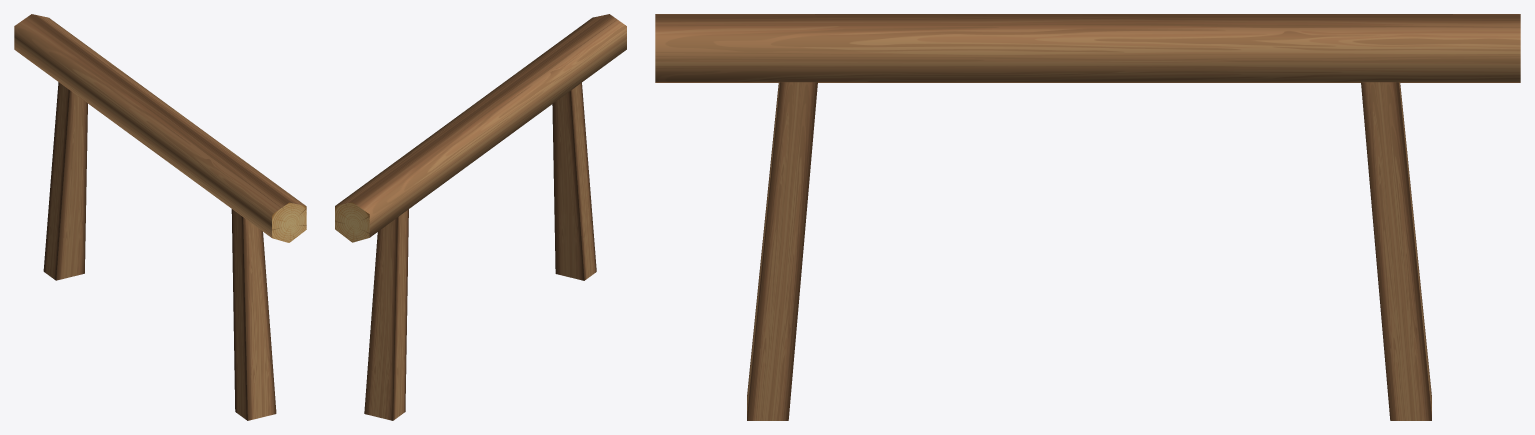
The model's file is Fence_C.FBX.
The picture shows the model from 3 angles, left to right: view 1: azimuth 30°, elevation 25°; view 2: azimuth 150°, elevation 25°; view 3: azimuth 270°, elevation 25°; orthographic projection. The views are drawn at different scales.
Parts seen in each view (by area): view 1: Fence_C; view 2: Fence_C; view 3: Fence_C.
Boxes of the visible parts, bbox=[...] form: Fence_C: bbox=[14, 14, 306, 420]; Fence_C: bbox=[335, 14, 626, 420]; Fence_C: bbox=[655, 14, 1520, 420].
Size of the model in its own units: 0.1756 by 1.14 by 2.27.
